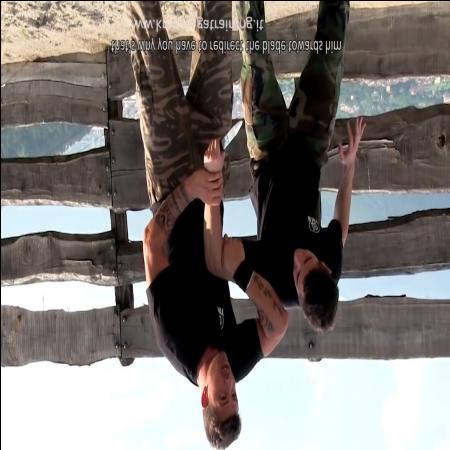long weapon: (202, 117, 244, 166)
